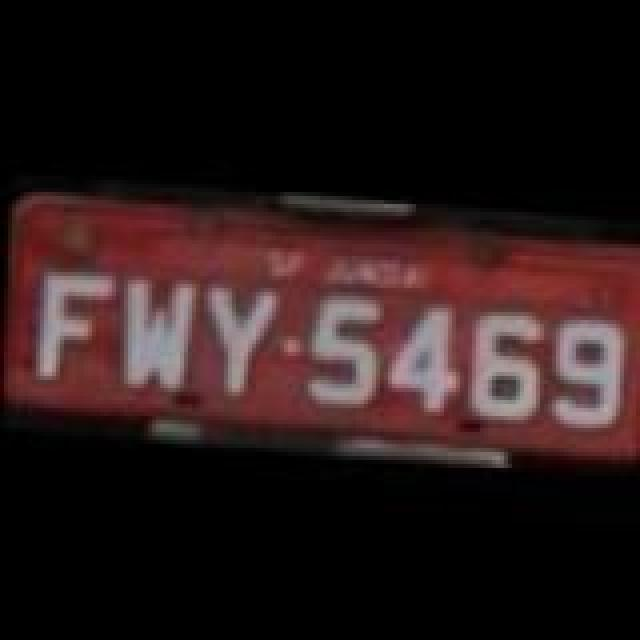4: (376, 294, 464, 414)
5: (302, 284, 390, 408)
6: (458, 296, 542, 424)
9: (542, 310, 626, 438)
F: (26, 258, 114, 382)
W: (112, 268, 196, 392)
Y: (196, 274, 272, 402)
